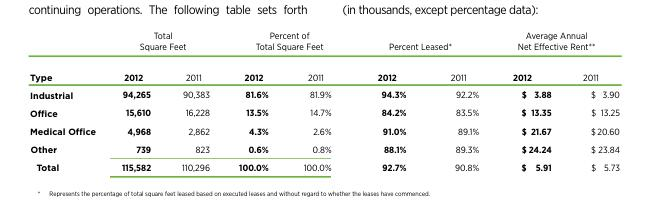table: (28, 29, 618, 172)
table column: (28, 29, 108, 172), (353, 29, 427, 172), (495, 29, 566, 172), (285, 29, 353, 172), (427, 29, 495, 172), (223, 29, 285, 172), (165, 29, 223, 172), (108, 29, 165, 172), (566, 29, 618, 172)
table column header: (28, 29, 618, 85)
table row: (28, 29, 618, 60), (28, 60, 618, 85), (28, 85, 618, 103), (28, 103, 618, 121), (28, 121, 618, 139), (28, 139, 618, 157), (28, 157, 618, 172)
table spanning cell: (28, 29, 108, 85), (353, 29, 495, 60), (223, 29, 353, 60), (495, 29, 618, 60), (108, 29, 223, 60)
